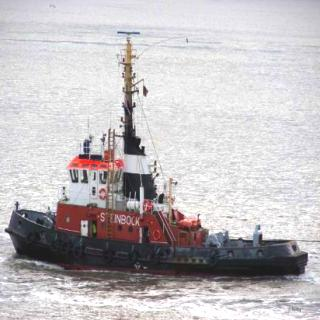Tug Boat: (0, 30, 313, 271)
